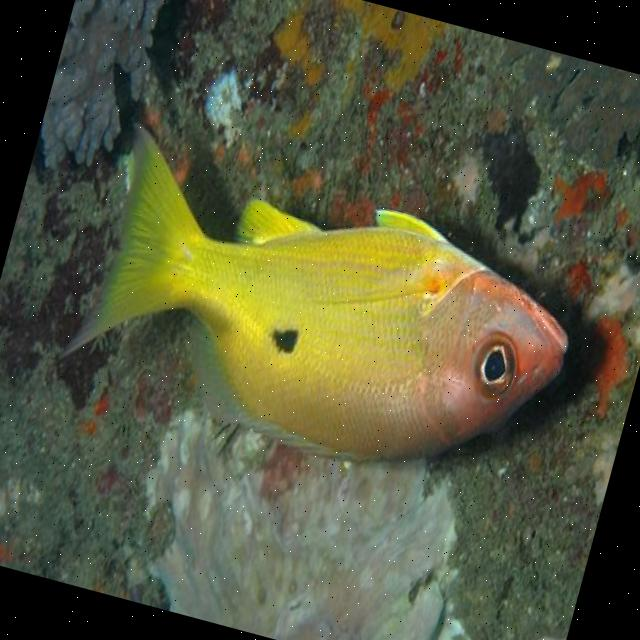ikan: (48, 118, 597, 518)
